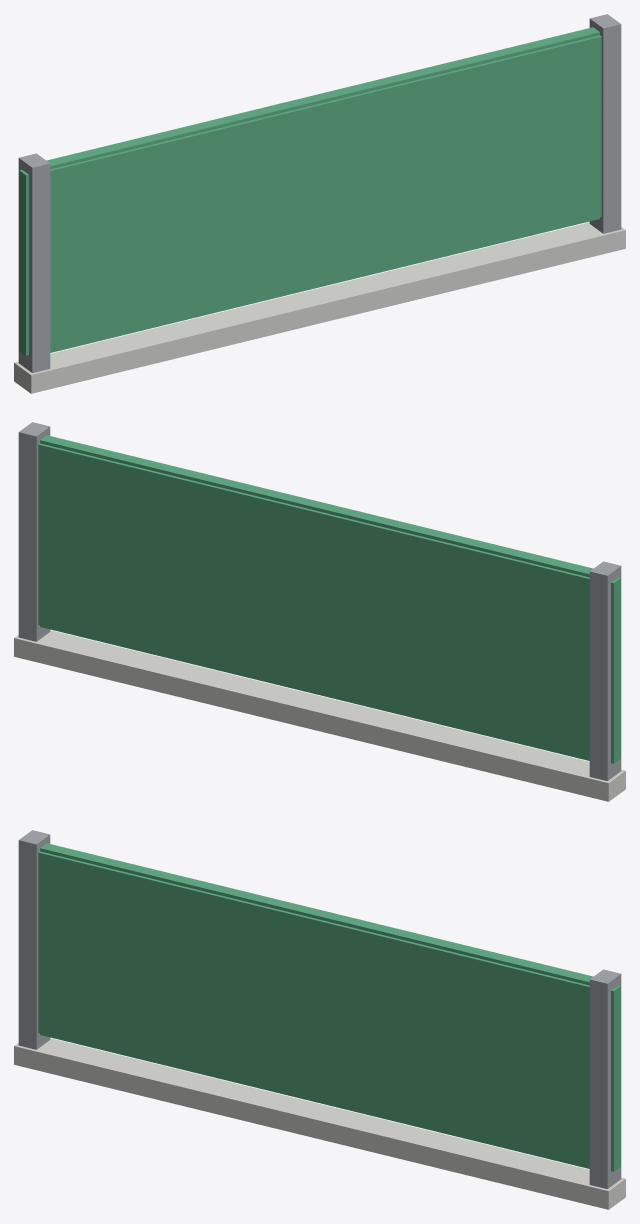
Rendered from terminus_sign_street.glb.
The picture shows the model from 3 angles, top to bottom: view 1: azimuth 30°, elevation 25°; view 2: azimuth 150°, elevation 25°; view 3: azimuth 330°, elevation 25°; orthographic projection.
Parts seen in each view (by area): view 1: terminus_sign_street; view 2: terminus_sign_street; view 3: terminus_sign_street.
Boxes of the visible parts, x1,y1,x2,y2 form: terminus_sign_street: (14, 14, 625, 393); terminus_sign_street: (14, 422, 625, 801); terminus_sign_street: (14, 830, 625, 1209).
Size of the model in its own units: 10 by 3.6 by 0.5.
